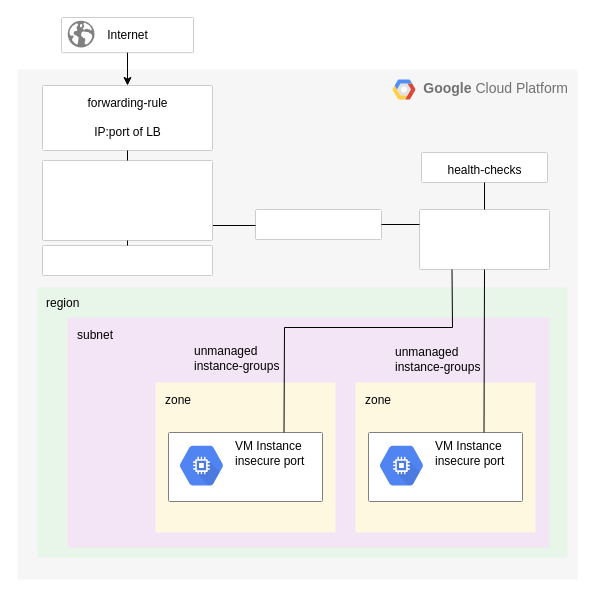
Image size: 594x597. Some labels were removed from this diagram. Here are the shapes that lost their labels. From the top down, the centre of each, then its label:
the point at 127,200: target-https-proxies global external HTTPS load balancer
the point at 318,224: urls-maps
the point at 484,239: backend-services
the point at 127,260: ssl-certificates
